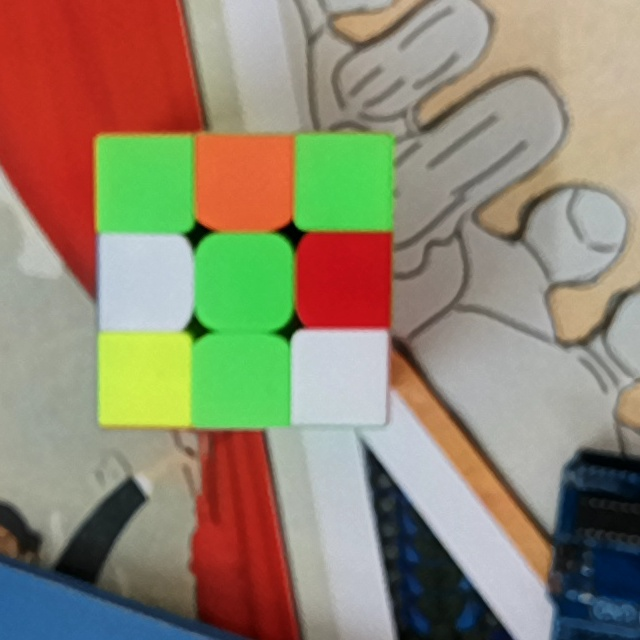tile: (301, 139, 388, 229), (100, 140, 188, 227), (199, 139, 287, 223), (99, 241, 184, 325), (296, 335, 381, 419), (304, 241, 387, 324), (102, 341, 186, 422), (199, 346, 285, 423), (205, 243, 287, 318)
